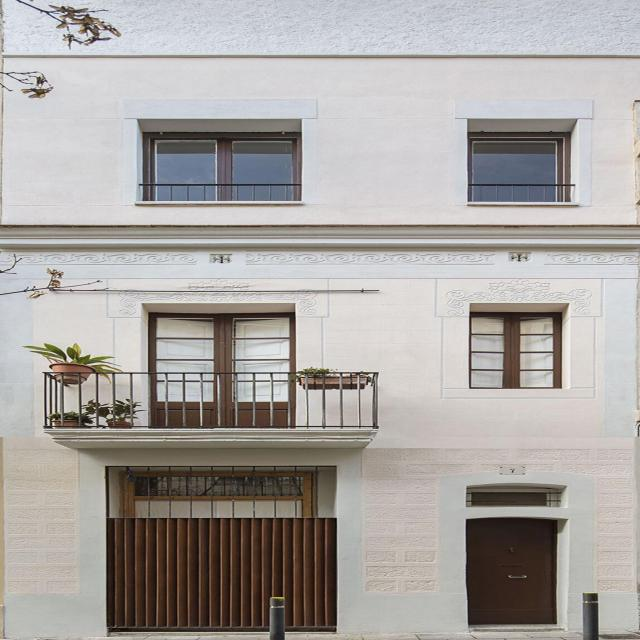door: (114, 470, 338, 635), (473, 518, 567, 627)
railing: (52, 374, 388, 429), (144, 187, 308, 204), (474, 185, 575, 203)
window: (149, 313, 293, 375), (151, 133, 305, 188), (472, 314, 561, 389), (476, 133, 575, 187)
